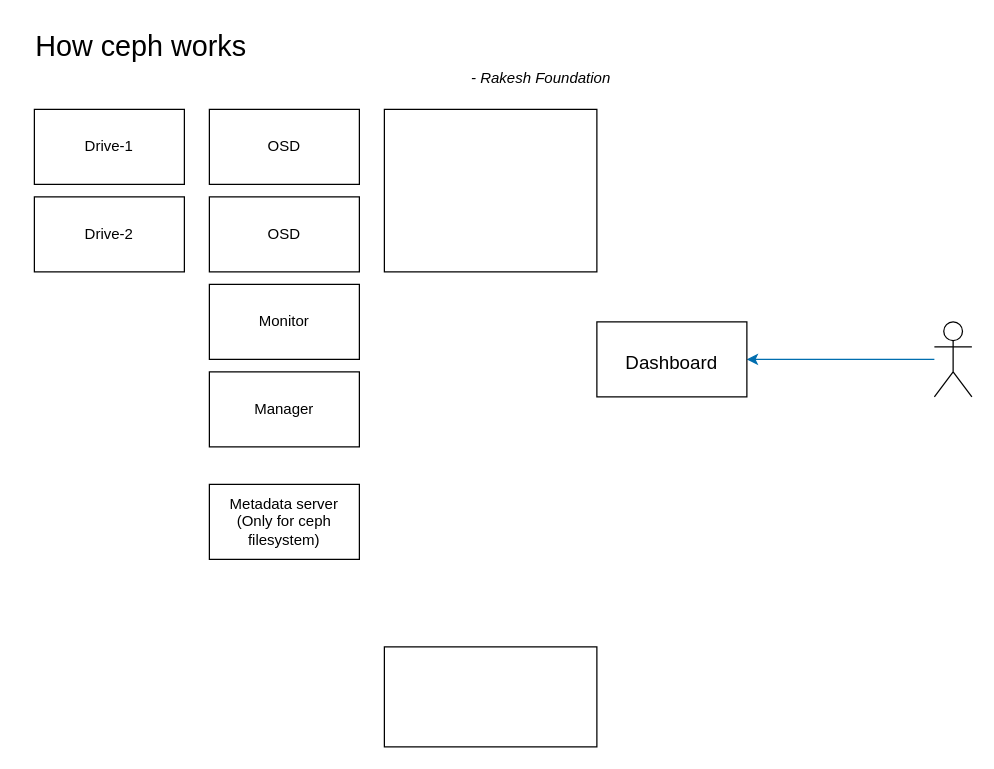
This 994x769 diagram has some shape labels left out. The box of each missing label's shape, as (x1, y1, x2, y2) in pixels:
Actor: (933, 321, 972, 397)
Storage server 1: (383, 108, 597, 272)
Storage server 2: (383, 646, 597, 747)
